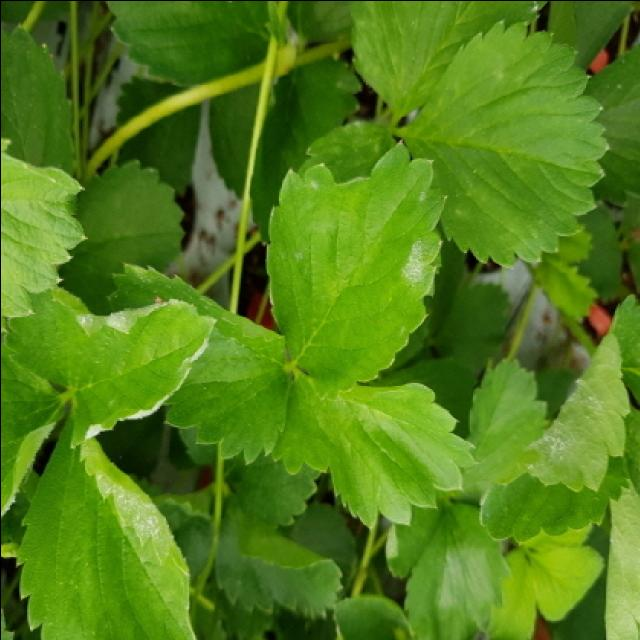Powdery Mildew Leaf: (264, 137, 447, 402), (13, 403, 196, 640), (2, 285, 218, 447), (476, 329, 630, 542)
